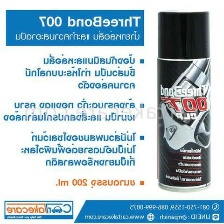aerosol_cans: (151, 7, 214, 194)
